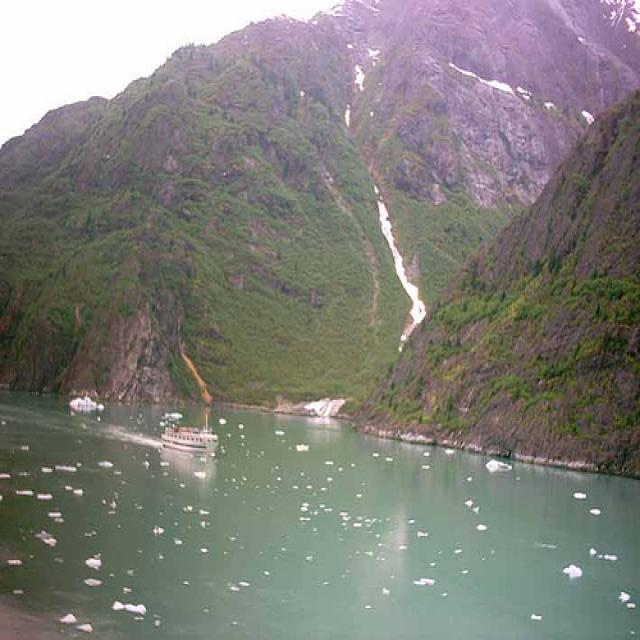boat: (161, 414, 220, 457)
